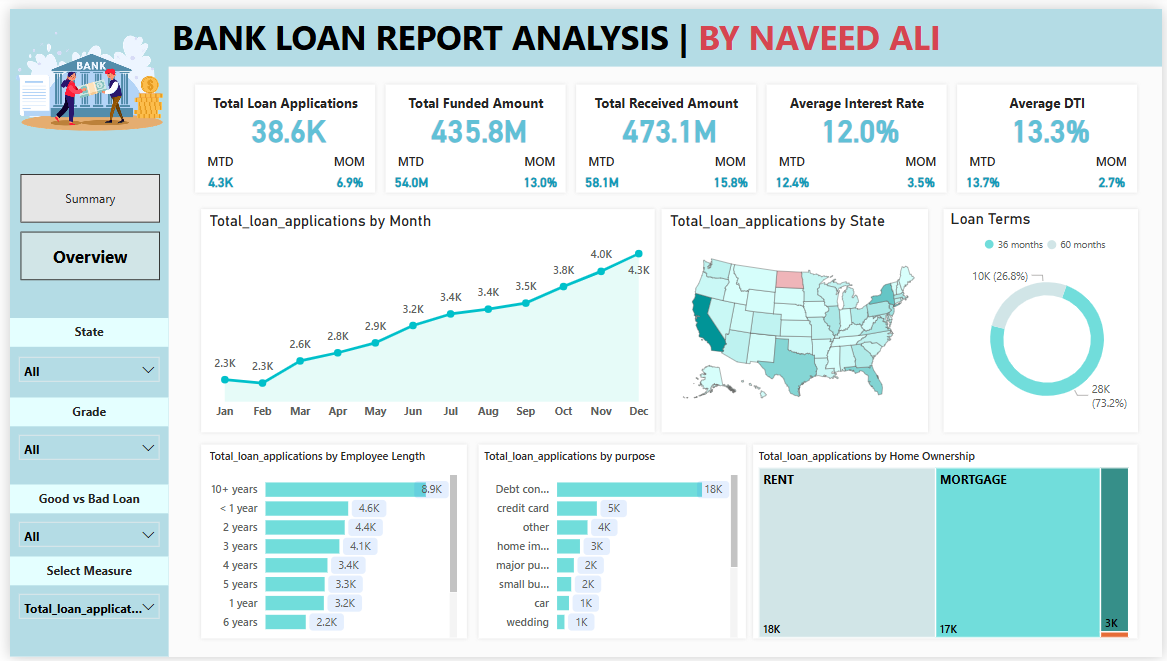

Layout of this report page (visuals, bound fields, positions):
{"tool":"powerbi","page":{"name":"Overview","canvas":[1280,720],"ordinal":1},"visuals":[{"type":"textbox","box":[0,0,1280,64],"z":0},{"type":"shape","box":[0,64,176,656],"z":1000},{"type":"group","id":"g1","title":"Group 1","box":[201,80,212,128],"z":2000},{"type":"shape","box":[201,80,208,128],"z":2000,"group":"g1"},{"type":"shape","box":[413,80,208,128],"z":2000,"group":"g2"},{"type":"shape","box":[625,80,208,128],"z":2000,"group":"g3"},{"type":"shape","box":[837,80,208,128],"z":2000,"group":"g4"},{"type":"shape","box":[1049,80,208,128],"z":2000,"group":"g5"},{"type":"card","fields":{"Values":["_Measures.Total_loan_applications"]},"box":[205,112,208,48],"z":3000,"group":"g1"},{"type":"card","fields":{"Values":["_Measures.Total Funded Amount"]},"box":[417,112,208,48],"z":3000,"group":"g2"},{"type":"card","fields":{"Values":["_Measures.Total Received Amount"]},"box":[629,112,208,48],"z":3000,"group":"g3"},{"type":"card","fields":{"Values":["_Measures.Avg Interest Rate"]},"box":[841,112,208,48],"z":3000,"group":"g4"},{"type":"card","fields":{"Values":["_Measures.Avg dti"]},"box":[1053,112,208,48],"z":3000,"group":"g5"},{"type":"shape","box":[208,218.2,512,256],"z":3000,"group":"g6"},{"type":"shape","box":[1033,218.2,224,256],"z":3000},{"type":"group","id":"g2","title":"Group 1","box":[413,80,212,128],"z":4000},{"type":"textbox","box":[209,88,192,32],"z":4000,"group":"g1"},{"type":"textbox","box":[421,88,192,32],"z":4000,"group":"g2"},{"type":"textbox","box":[633,88,192,32],"z":4000,"group":"g3"},{"type":"textbox","box":[845,88,192,32],"z":4000,"group":"g4"},{"type":"textbox","box":[1057,88,192,32],"z":4000,"group":"g5"},{"type":"card","title":"MTD","fields":{"Values":["_Measures.MTD Loan Applications"]},"box":[201,160,64,48],"z":5000,"group":"g1"},{"type":"card","title":"MTD","fields":{"Values":["_Measures.MTD Total Funded Amount"]},"box":[413,160,64,48],"z":5000,"group":"g2"},{"type":"card","title":"MTD","fields":{"Values":["_Measures.MTD Received Amount"]},"box":[625,160,64,48],"z":5000,"group":"g3"},{"type":"card","title":"MTD","fields":{"Values":["_Measures.MTD Avg Interest Rate"]},"box":[837,160,64,48],"z":5000,"group":"g4"},{"type":"card","title":"MTD","fields":{"Values":["_Measures.MTD Avg dti"]},"box":[1049,160,64,48],"z":5000,"group":"g5"},{"type":"shape","box":[720,218.2,304,256],"z":5000},{"type":"group","id":"g3","title":"Group 1","box":[625,80,212,128],"z":6000},{"type":"card","title":"MOM","fields":{"Values":["_Measures.MOM Loan Applications"]},"box":[345,160,64,48],"z":6000,"group":"g1"},{"type":"card","title":"MOM","fields":{"Values":["_Measures.MOM Funded Amount"]},"box":[557,160,64,48],"z":6000,"group":"g2"},{"type":"card","title":"MOM","fields":{"Values":["_Measures.MOM Received Amount"]},"box":[769,160,64,48],"z":6000,"group":"g3"},{"type":"card","title":"MOM","fields":{"Values":["_Measures.MOM Avg Interest Rate"]},"box":[981,160,64,48],"z":6000,"group":"g4"},{"type":"card","title":"MOM","fields":{"Values":["_Measures.MOM Avg dti"]},"box":[1193,160,64,48],"z":6000,"group":"g5"},{"type":"textbox","box":[0,344,176,32],"z":7000},{"type":"group","id":"g4","title":"Group 1","box":[837,80,212,128],"z":8000},{"type":"group","id":"g5","title":"Group 1","box":[1049,80,212,128],"z":9000},{"type":"group","id":"g6","title":"Group 5","box":[208,218.2,512,256],"z":10000},{"type":"slicer","fields":{"Values":["financial_loan.address_state"]},"box":[0,376,176,48],"z":11000},{"type":"textbox","box":[0,432,176,32],"z":12000},{"type":"slicer","fields":{"Values":["financial_loan.grade"]},"box":[0,464,176,48],"z":13000},{"type":"textbox","box":[0,528,176,32],"z":14000},{"type":"slicer","fields":{"Values":["financial_loan.Good vs Bad Loan"]},"box":[0,560,176,48],"z":15000},{"type":"image","box":[0,0,176,160],"z":16000},{"type":"areaChart","fields":{"Y":["_Measures.Total_loan_applications"],"Category":["Date Table.Month"]},"box":[216.7,224.4,503.3,240],"z":17000},{"type":"slicer","fields":{"Values":["Select.Select"]},"box":[0,640,176,48],"z":18000},{"type":"textbox","box":[0,608,176,32],"z":19000},{"type":"shapeMap","fields":{"Value":["_Measures.Total_loan_applications"],"Category":["financial_loan.address_state"]},"box":[728.9,224.4,295.6,240],"z":20000},{"type":"donutChart","title":"Loan Terms","fields":{"Y":["_Measures.Total_loan_applications"],"Category":["financial_loan.term"]},"box":[1040,224,224,240],"z":21000},{"type":"shape","box":[208.3,480,303.3,223.3],"z":22000},{"type":"barChart","fields":{"Y":["_Measures.Total_loan_applications"],"Category":["financial_loan.emp_length"]},"box":[216.7,488.3,285,215],"z":23000},{"type":"shape","box":[516.7,480,305,223.3],"z":24000},{"type":"barChart","fields":{"Y":["_Measures.Total_loan_applications"],"Category":["financial_loan.purpose"]},"box":[521.7,488.3,291.7,215],"z":25000},{"type":"shape","box":[821.7,480,435,223.3],"z":26000},{"type":"treemap","fields":{"Values":["_Measures.Total_loan_applications"],"Group":["financial_loan.home_ownership"]},"box":[826.7,488.3,421.7,215],"z":27000},{"type":"pageNavigator","box":[11.7,183.3,155,118.3],"z":27001}]}

Visuals, with their boxes in screenshot pixels (x1, y1, x2, y2), scaled from the page's 1280x720 canvas onto the 1167x661 screenshot:
textbox: box(0, 0, 1166, 59)
shape: box(0, 59, 160, 660)
"Group 1" group: box(183, 73, 377, 191)
shape: box(183, 73, 373, 191)
shape: box(377, 73, 566, 191)
shape: box(570, 73, 759, 191)
shape: box(763, 73, 953, 191)
shape: box(956, 73, 1146, 191)
card - _Measures.Total_loan_applications: box(187, 103, 377, 147)
card - _Measures.Total Funded Amount: box(380, 103, 570, 147)
card - _Measures.Total Received Amount: box(573, 103, 763, 147)
card - _Measures.Avg Interest Rate: box(767, 103, 956, 147)
card - _Measures.Avg dti: box(960, 103, 1150, 147)
shape: box(190, 200, 656, 435)
shape: box(942, 200, 1146, 435)
"Group 1" group: box(377, 73, 570, 191)
textbox: box(191, 81, 366, 110)
textbox: box(384, 81, 559, 110)
textbox: box(577, 81, 752, 110)
textbox: box(770, 81, 945, 110)
textbox: box(964, 81, 1139, 110)
"MTD" card: box(183, 147, 242, 191)
"MTD" card: box(377, 147, 435, 191)
"MTD" card: box(570, 147, 628, 191)
"MTD" card: box(763, 147, 821, 191)
"MTD" card: box(956, 147, 1015, 191)
shape: box(656, 200, 934, 435)
"Group 1" group: box(570, 73, 763, 191)
"MOM" card: box(315, 147, 373, 191)
"MOM" card: box(508, 147, 566, 191)
"MOM" card: box(701, 147, 759, 191)
"MOM" card: box(894, 147, 953, 191)
"MOM" card: box(1088, 147, 1146, 191)
textbox: box(0, 316, 160, 345)
"Group 1" group: box(763, 73, 956, 191)
"Group 1" group: box(956, 73, 1150, 191)
"Group 5" group: box(190, 200, 656, 435)
slicer - financial_loan.address_state: box(0, 345, 160, 389)
textbox: box(0, 397, 160, 426)
slicer - financial_loan.grade: box(0, 426, 160, 470)
textbox: box(0, 485, 160, 514)
slicer - financial_loan.Good vs Bad Loan: box(0, 514, 160, 558)
image: box(0, 0, 160, 147)
areaChart - _Measures.Total_loan_applications x Date Table.Month: box(198, 206, 656, 426)
slicer - Select.Select: box(0, 588, 160, 632)
textbox: box(0, 558, 160, 588)
shapeMap - _Measures.Total_loan_applications x financial_loan.address_state: box(665, 206, 934, 426)
"Loan Terms" donutChart: box(948, 206, 1152, 426)
shape: box(190, 441, 466, 646)
barChart - _Measures.Total_loan_applications x financial_loan.emp_length: box(198, 448, 457, 646)
shape: box(471, 441, 749, 646)
barChart - _Measures.Total_loan_applications x financial_loan.purpose: box(476, 448, 742, 646)
shape: box(749, 441, 1146, 646)
treemap - _Measures.Total_loan_applications x financial_loan.home_ownership: box(754, 448, 1138, 646)
pageNavigator: box(11, 168, 152, 277)
